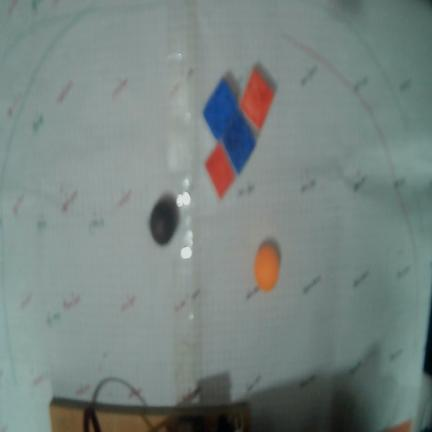circle_blue: (149, 194, 178, 245)
circle_orange: (254, 244, 279, 291)
rectangle_blue: (203, 78, 238, 139)
rectangle_orange: (205, 143, 235, 198)
square_blue: (221, 112, 256, 173)
square_orange: (240, 68, 274, 130)
